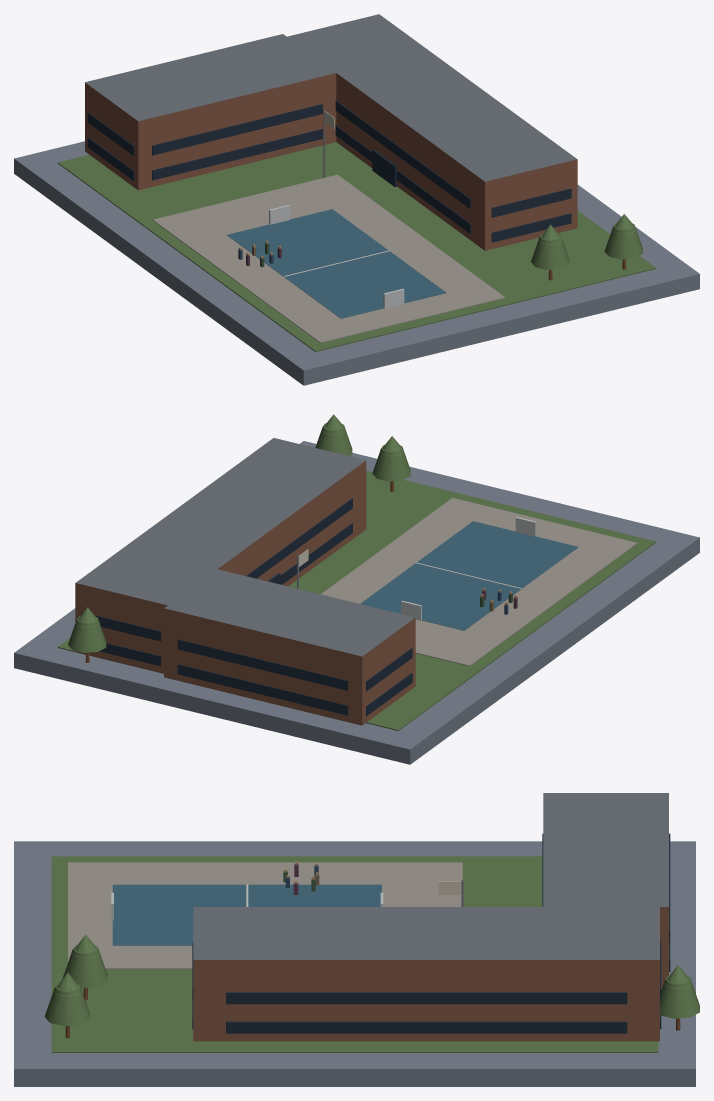
Rendered from school.glb.
The picture shows the model from 3 angles, top to bottom: view 1: azimuth 30°, elevation 25°; view 2: azimuth 150°, elevation 25°; view 3: azimuth 270°, elevation 25°; orthographic projection. The views are drawn at different scales.
Parts seen in each view (by area): view 1: school; view 2: school; view 3: school.
Part boxes in pixels (bbox=[...]): school: bbox=[14, 14, 699, 385]; school: bbox=[14, 414, 699, 764]; school: bbox=[14, 793, 699, 1086].
Size of the model in its own units: 60 by 12.35 by 76.44.
